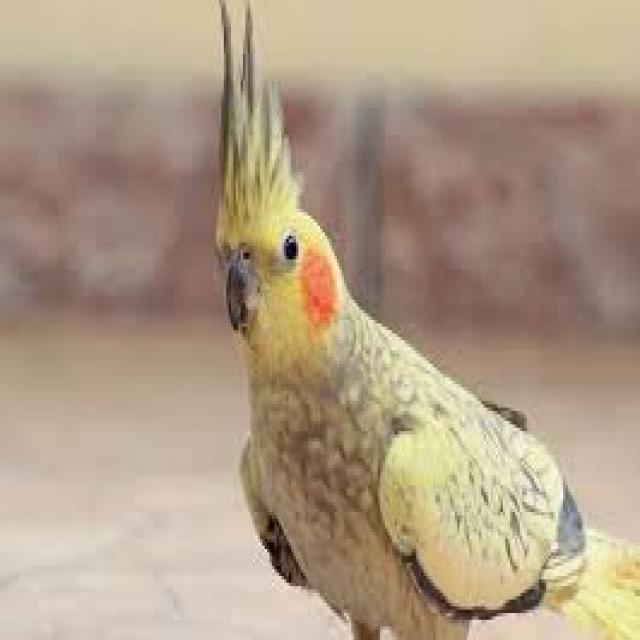Parrot: (213, 16, 552, 634)
